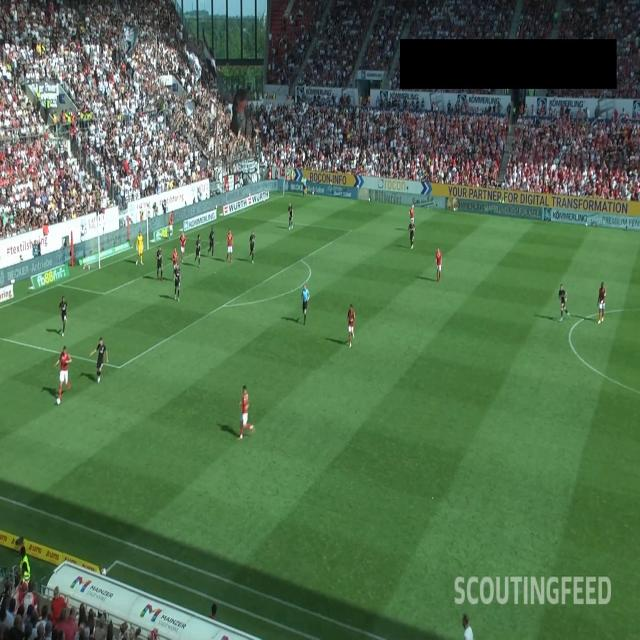ball: (56, 397, 61, 406)
